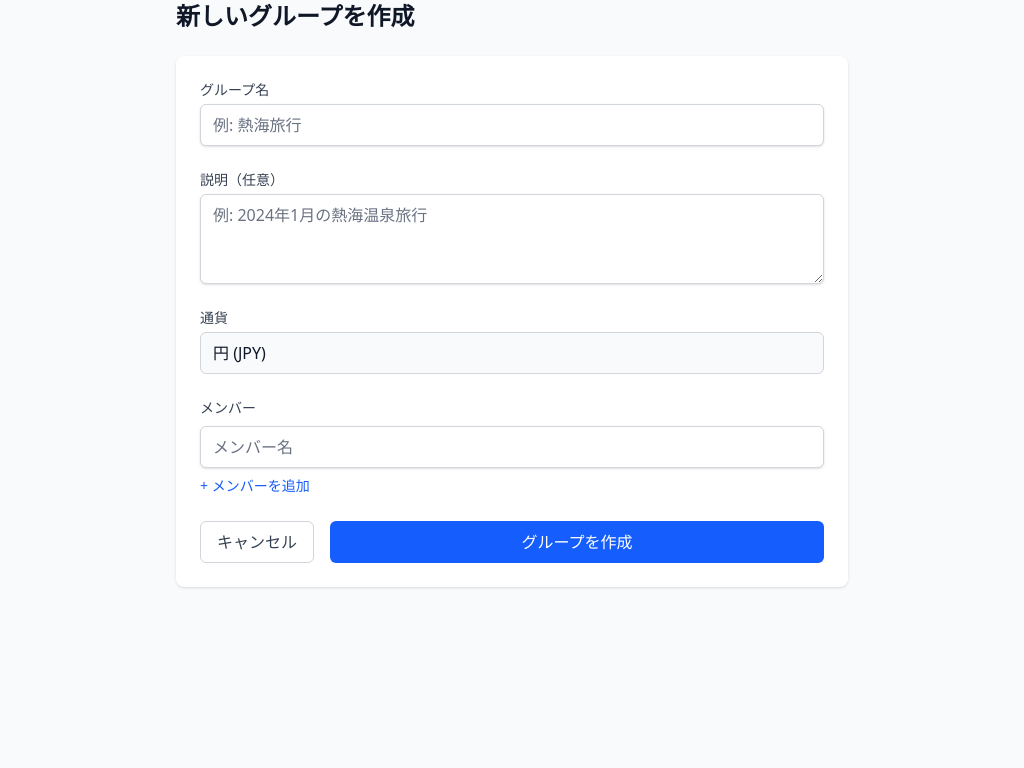
Test case: CreateGroupPage › メンバーなしで送信時にエラーモーダルを表示する
Type "テストグループ" into the field labelled "グループ名". click: (512, 125)
box: top-left (200, 104), bottom-right (824, 146)
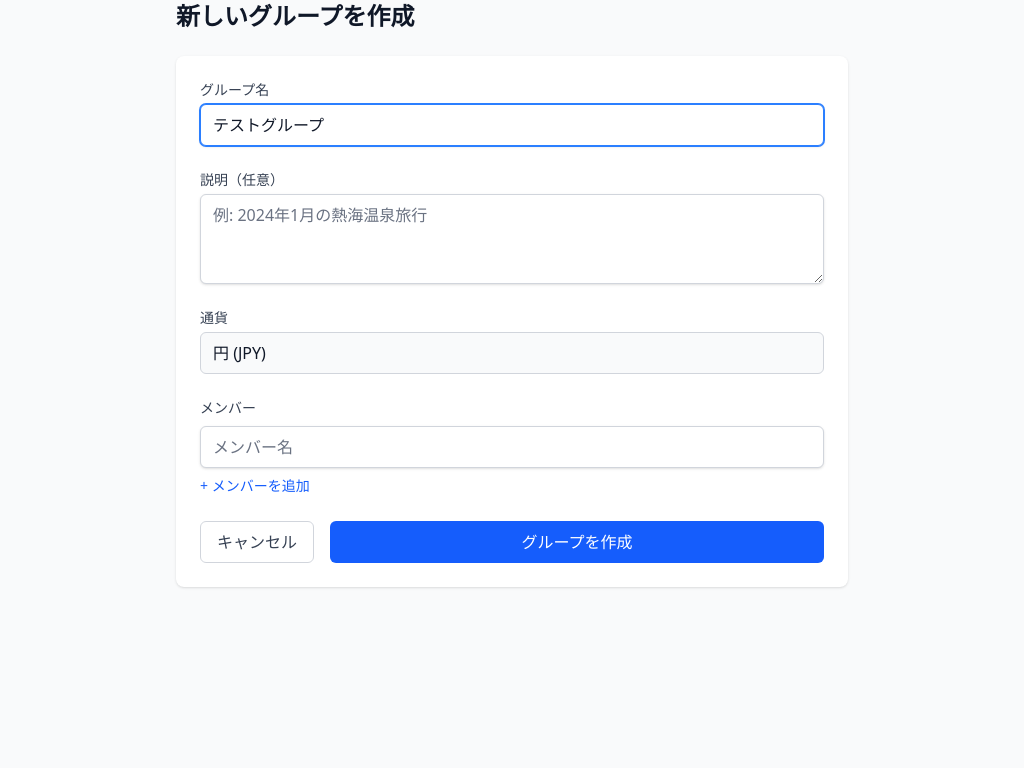
Click the button with aria-label "グループを作成して管理ページに移動". click: (577, 542)
box: top-left (330, 521), bottom-right (824, 563)
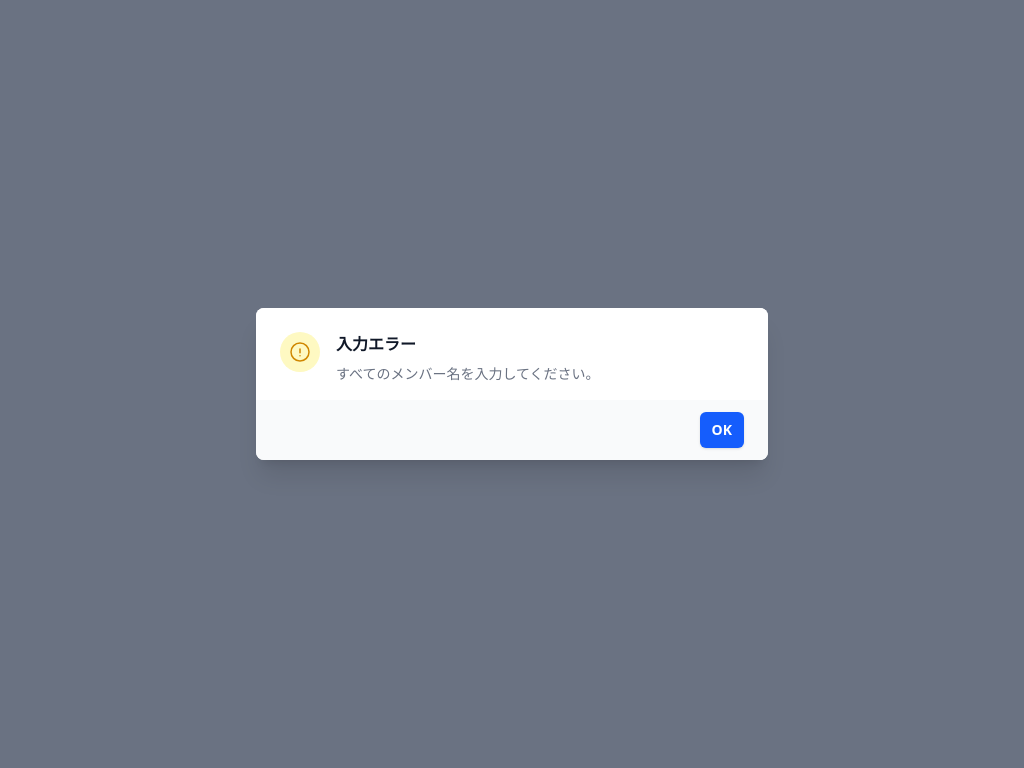
Expected: the heading "入力エラー" is shown, top-left (336, 333), bottom-right (416, 355)
Expected: the text "すべてのメンバー名を入力してください。" is shown, top-left (336, 364), bottom-right (600, 384)
